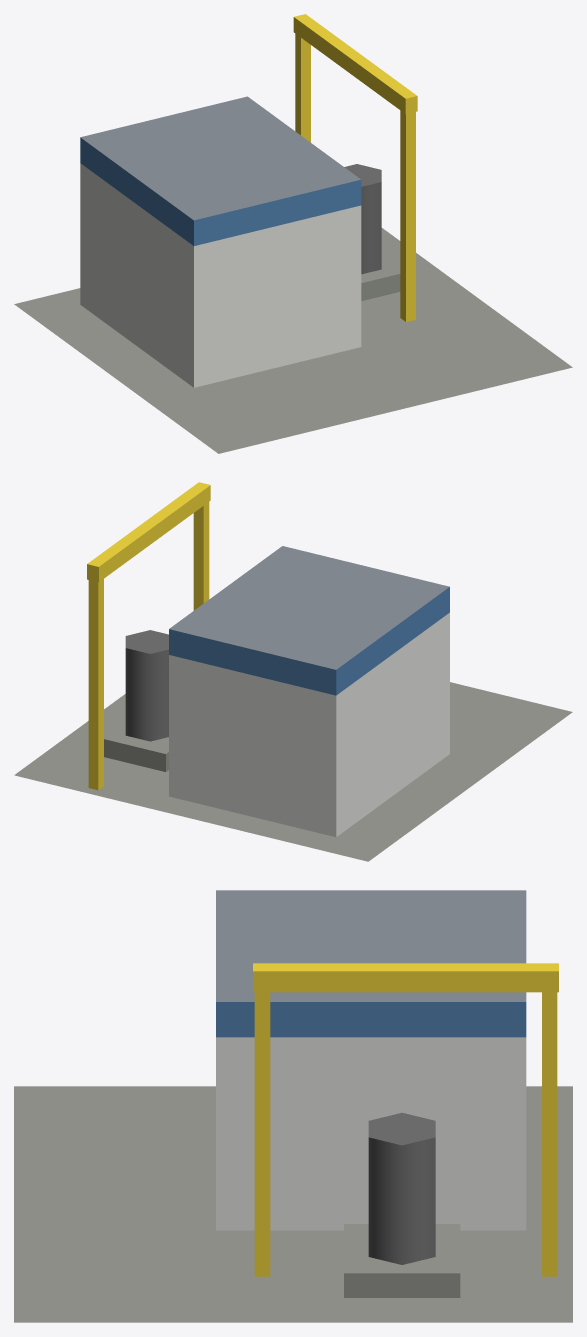
The model's file is mashup-intake-far.fbx.
3 views of the same model, one above another, from view 1: azimuth 30°, elevation 25°; view 2: azimuth 150°, elevation 25°; view 3: azimuth 270°, elevation 25° (orthographic). The views are drawn at different scales.
Parts seen in each view (by area): view 1: a1074/0/mashup-intake-far; view 2: a1074/0/mashup-intake-far; view 3: a1074/0/mashup-intake-far.
Boxes of the visible parts, x1,y1,x2,y2 form: a1074/0/mashup-intake-far: (14,14,572,453); a1074/0/mashup-intake-far: (14,482,572,861); a1074/0/mashup-intake-far: (14,890,572,1322).
Bounding box in the file's own units: 7.2 × 4.5 × 7.2.
